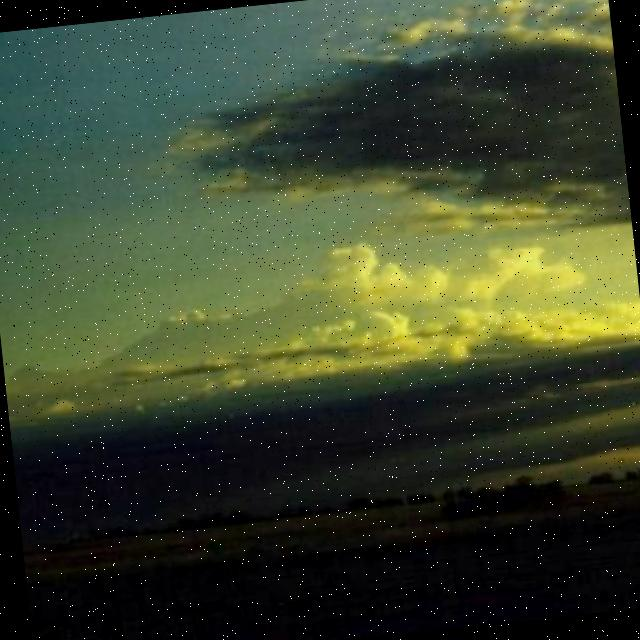St: (174, 1, 634, 290)
